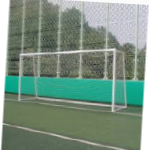goals: (17, 46, 128, 114)
